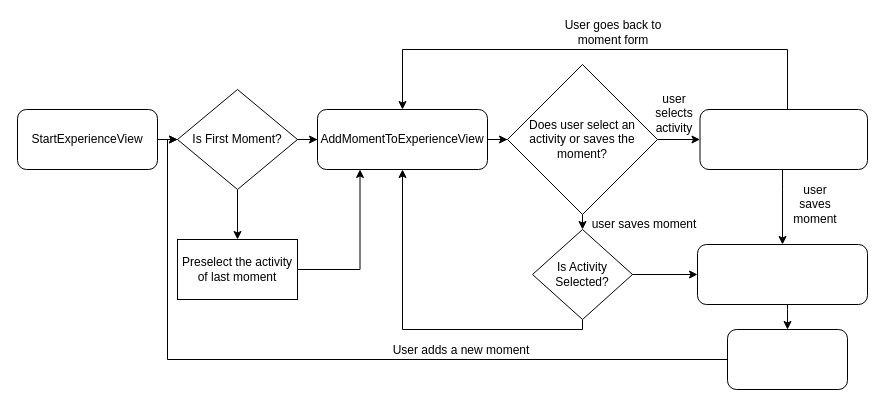
Image size: 885x407. Some labels were removed from this diagram. The centre of each missing label's shape, as x and y in pixels:
"AssignActivityForMomentView" goes at pixel 782 274.
"ExperienceDetailView" goes at pixel 787 359.
"SelectActivityForMomentView" goes at pixel 783 139.
